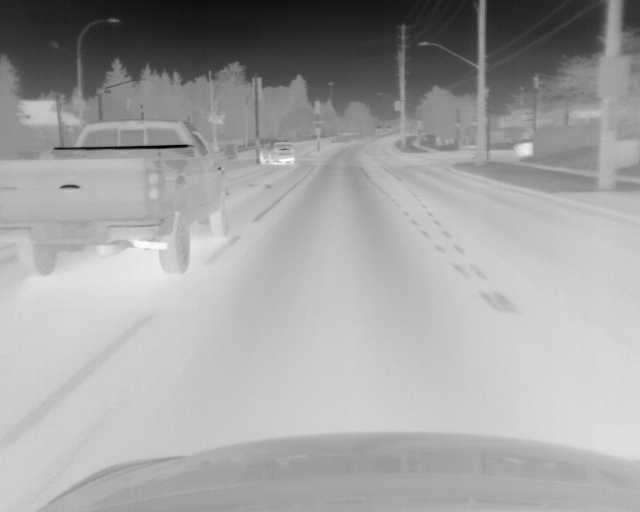car: (3, 119, 228, 274), (269, 141, 296, 164)
